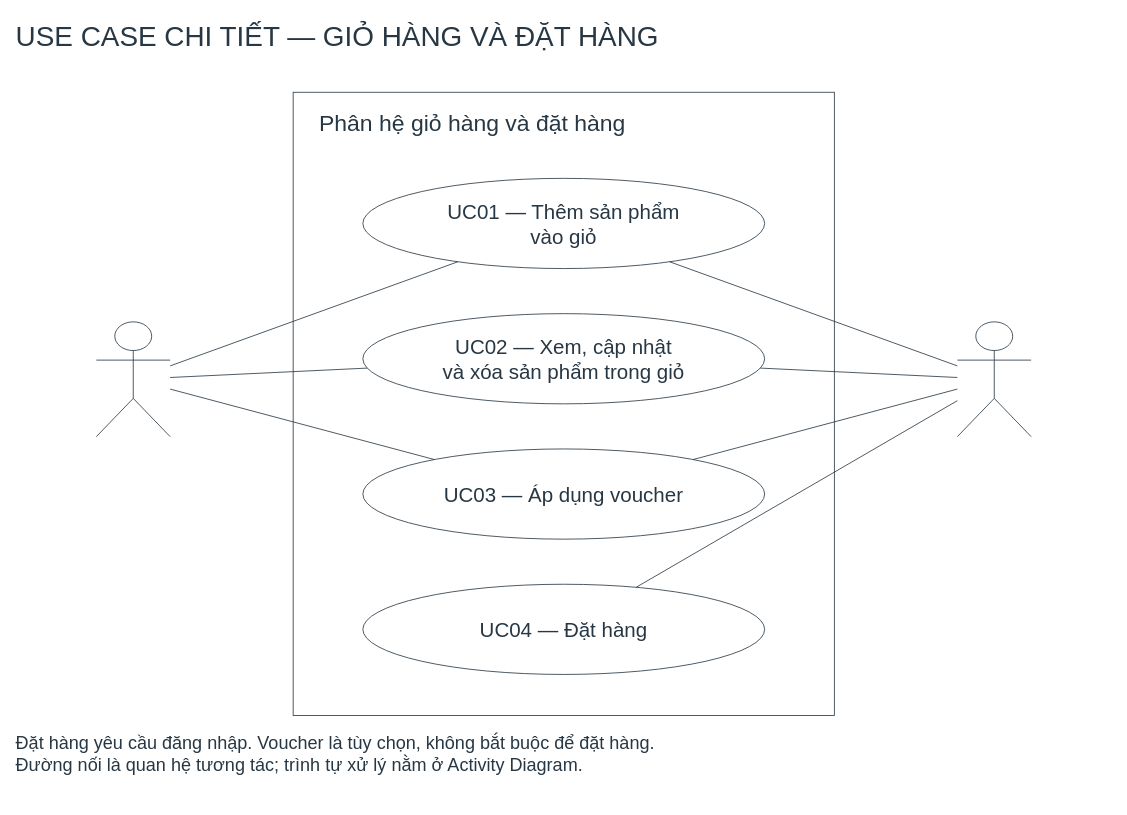
Some shapes in this 1127 by 815 pixel diagram are drawn without their labels. Each missing label, with the centre of its shape:
Khách chưa đăng nhập: pixel 133 379
Khách hàng đã đăng nhập: pixel 994 379
